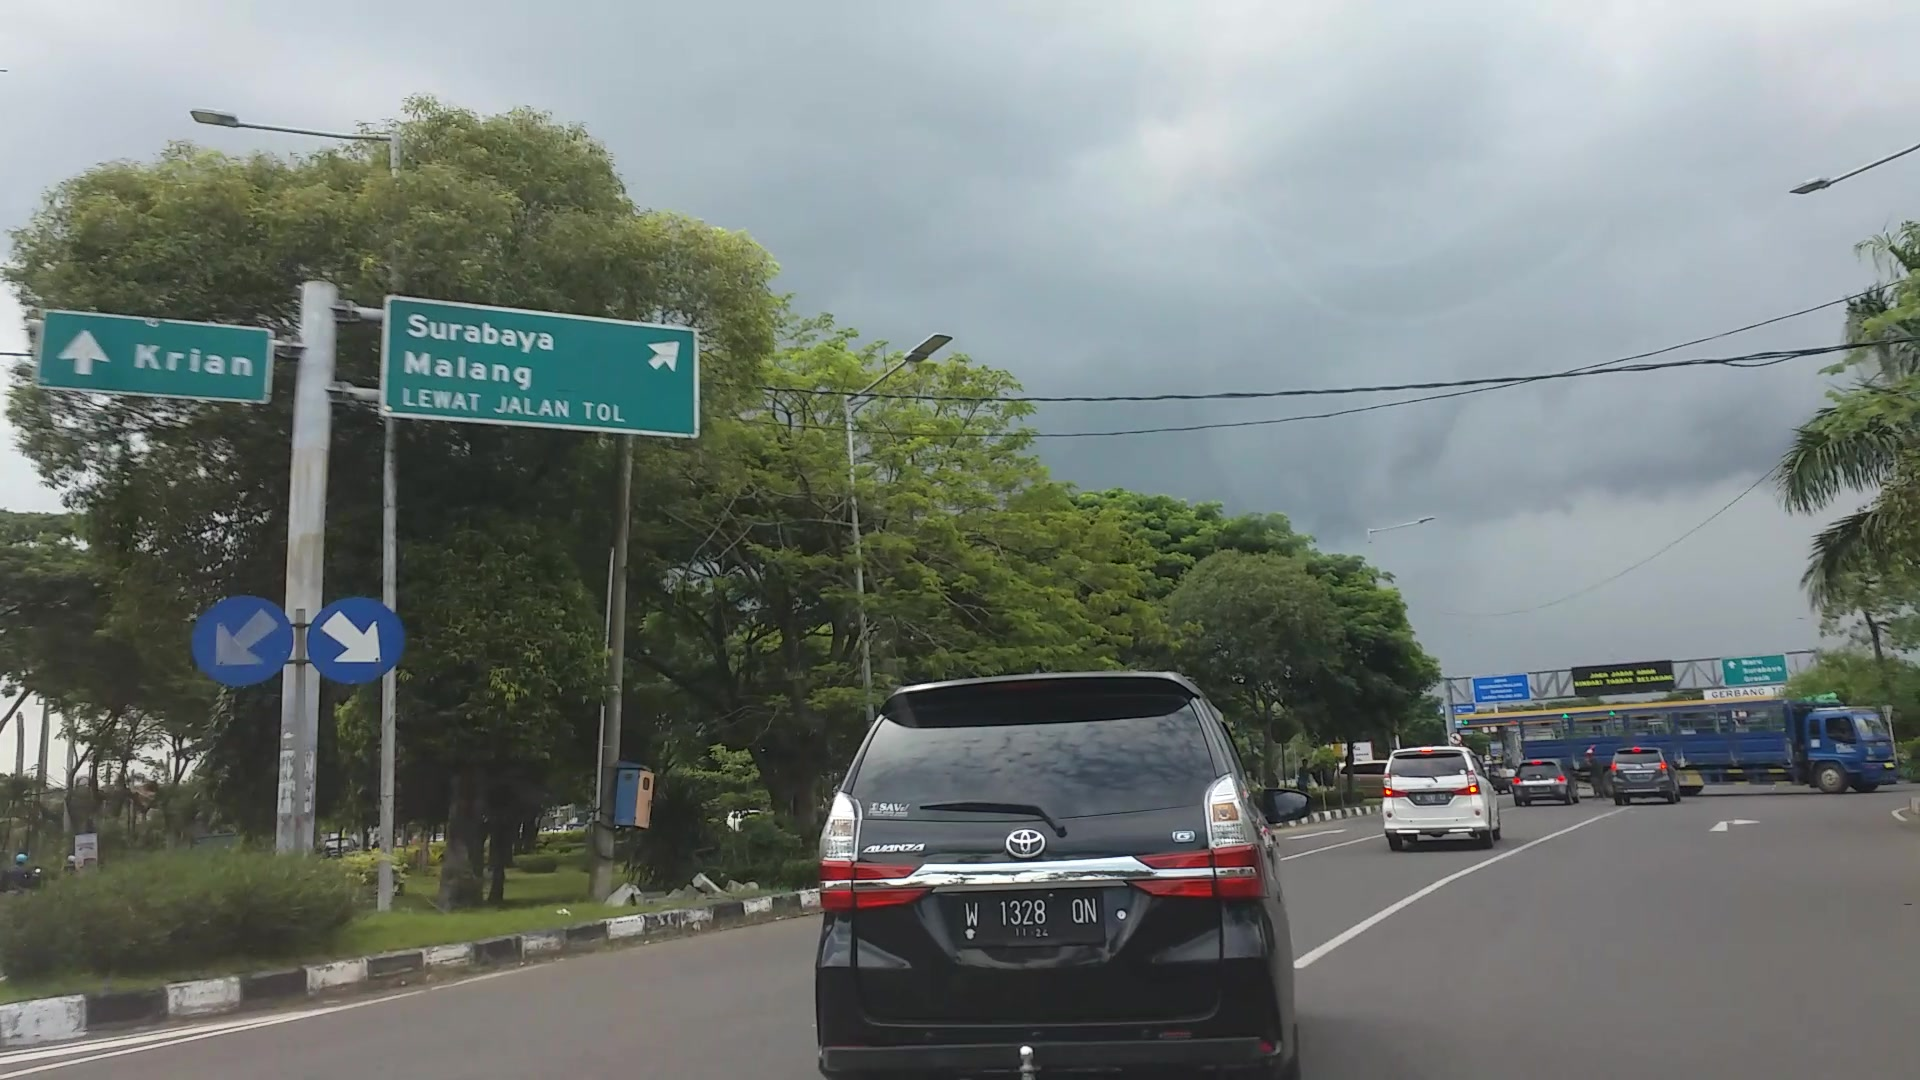plate_positive: (956, 893, 1105, 945)
